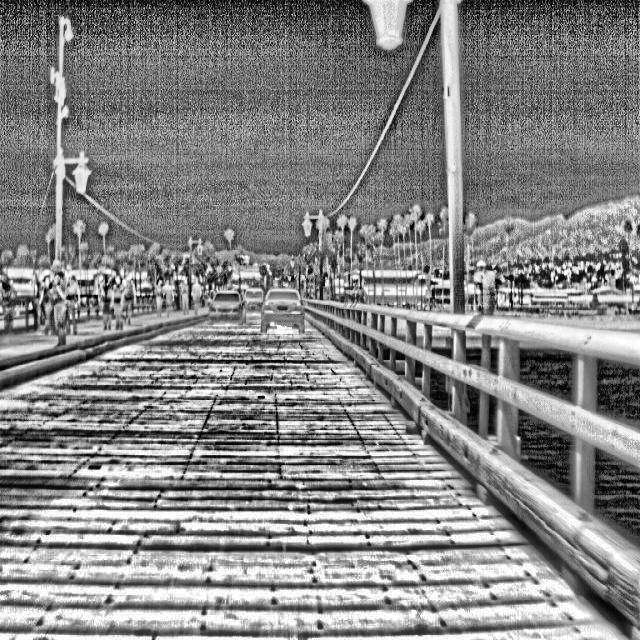car: (259, 286, 312, 345), (203, 286, 246, 326), (245, 283, 273, 324)
light: (348, 1, 415, 61), (62, 144, 109, 203), (297, 207, 332, 248)
person and bycle: (39, 266, 75, 344), (59, 270, 86, 335), (119, 271, 141, 339), (42, 271, 63, 335), (99, 270, 118, 334), (176, 282, 198, 325), (152, 277, 175, 318), (190, 278, 210, 321), (159, 278, 179, 318)
